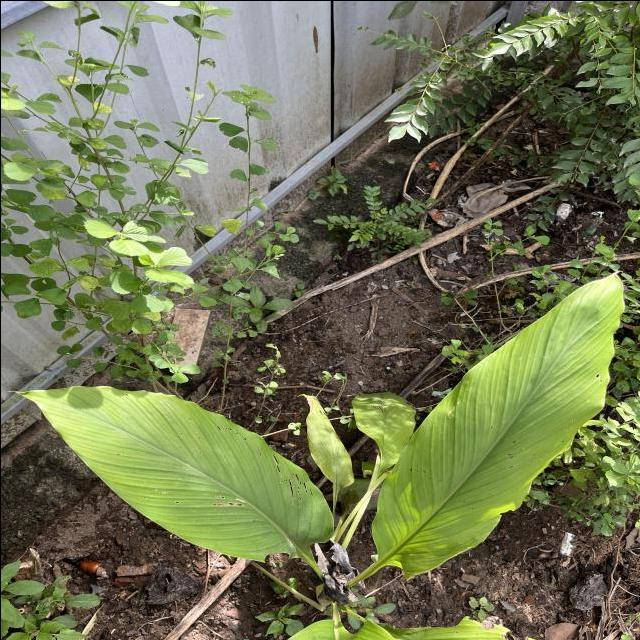Curcuma longa: (366, 268, 626, 582), (3, 383, 336, 564)
